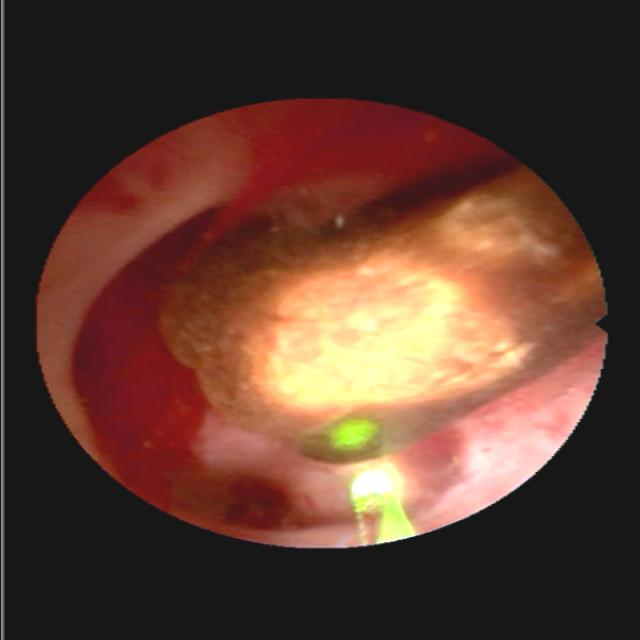stone: (164, 166, 601, 465)
tissue: (50, 115, 472, 541), (415, 354, 591, 525)
